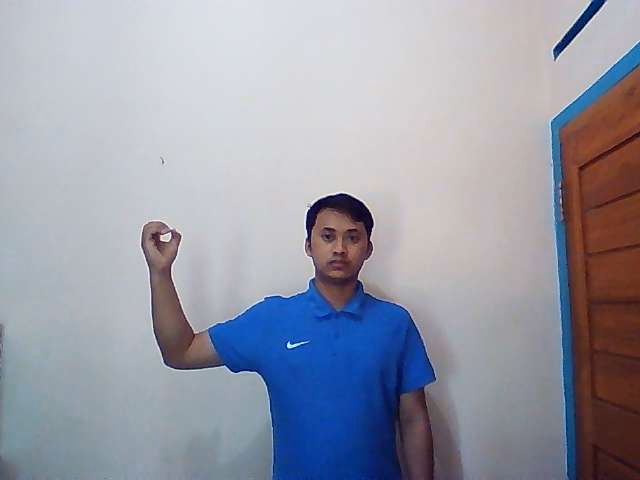O: (137, 219, 185, 272)
